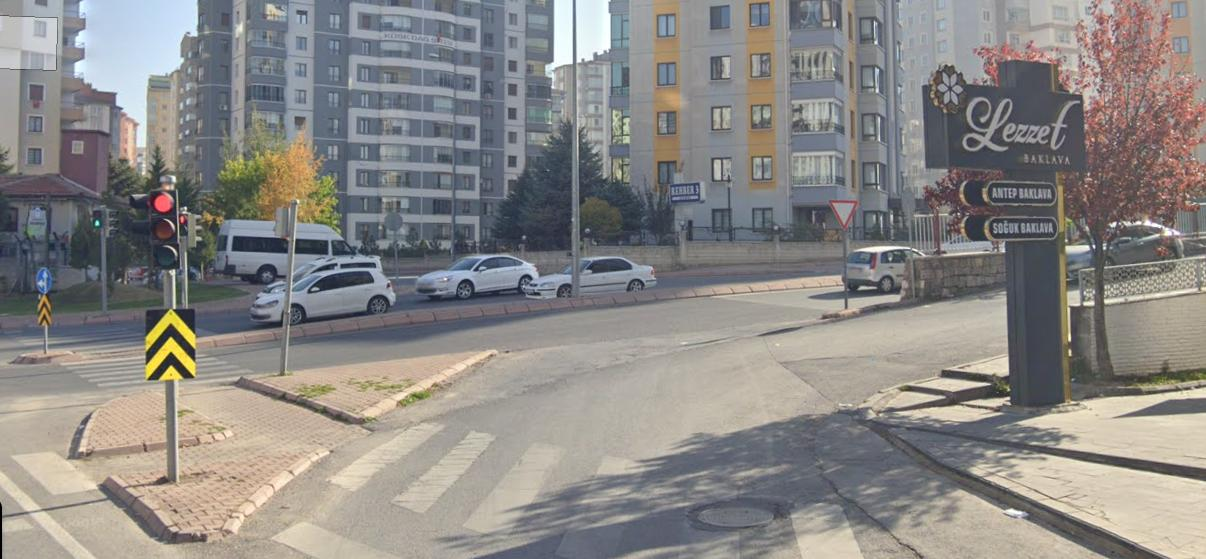greenlight: (90, 209, 102, 231)
redlight: (150, 185, 180, 267)
